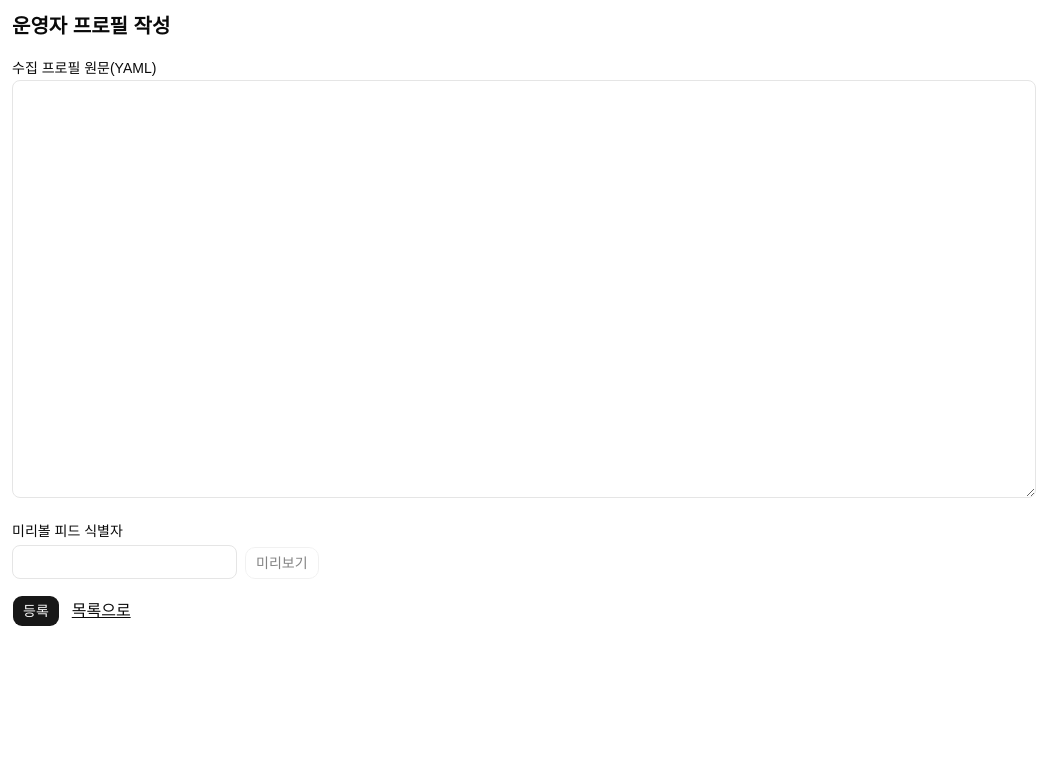
Test: ProfileEditorPage › 새 원문의 피드를 미리보고, 검증 문제를 줄:열과 함께 보인다
Step 1. Type "script: x" into the text box labelled "수집 프로필 원문(YAML)" → [524, 289], box [12,80,1036,498]
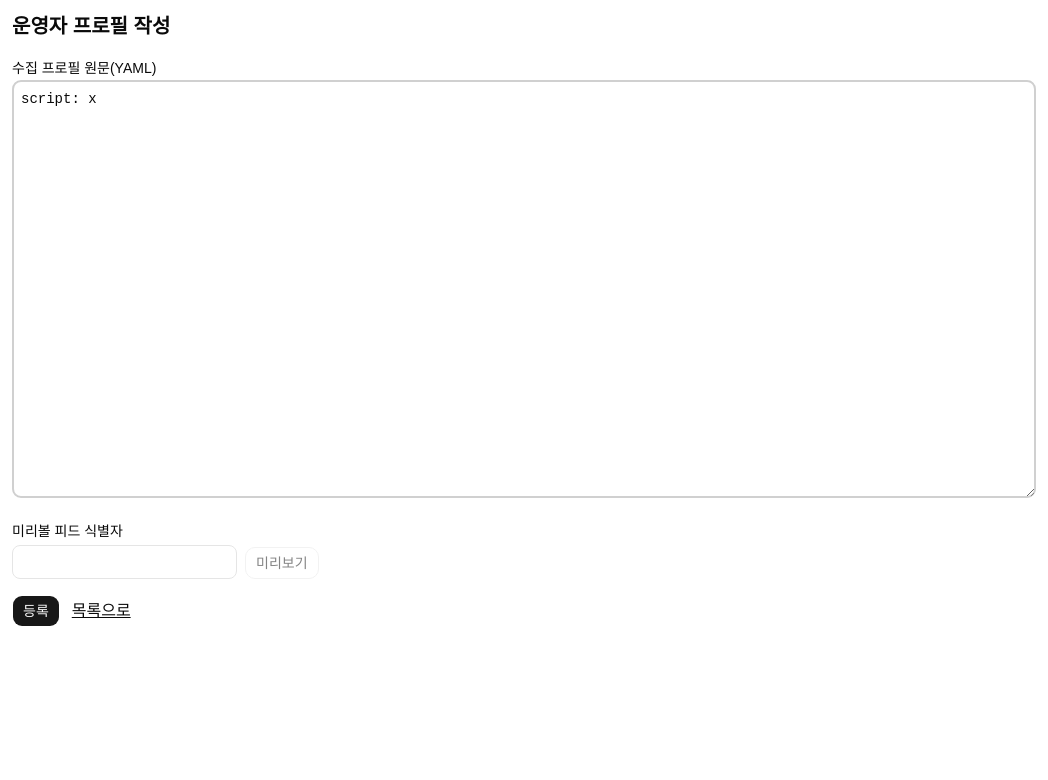
expect the button "미리보기" is disabled: met, box [245,547,318,579]
Step 2. Type "main" into the field labelled "미리볼 피드 식별자" → [124, 562], box [12,545,237,579]
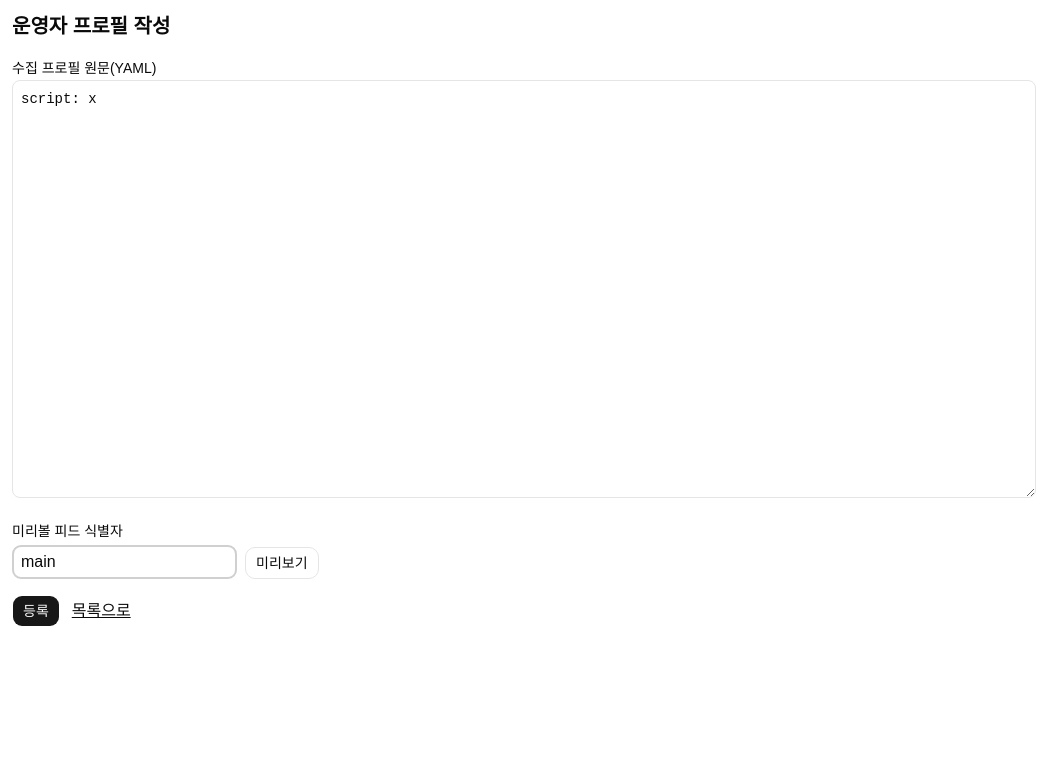
Step 3. Click the button "미리보기" → [282, 563], box [245,547,318,579]
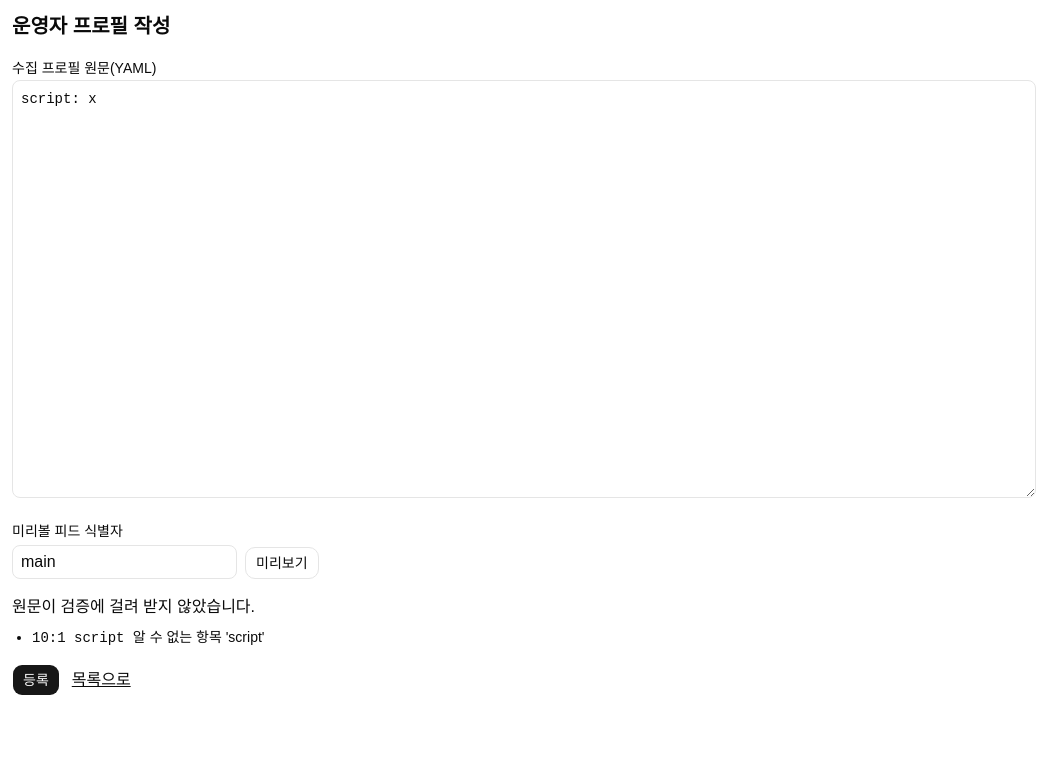
expect the text "원문이 검증에 걸려 받지 않았습니다." is shown: met, box [12,598,255,615]
expect the text "10:1" is shown: met, box [32,630,66,646]
